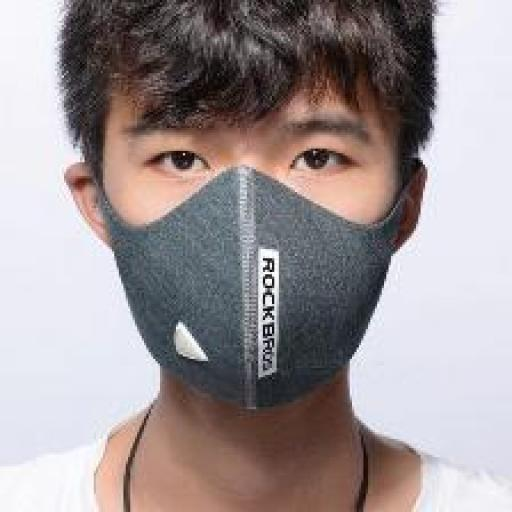mask: (98, 160, 410, 413)
